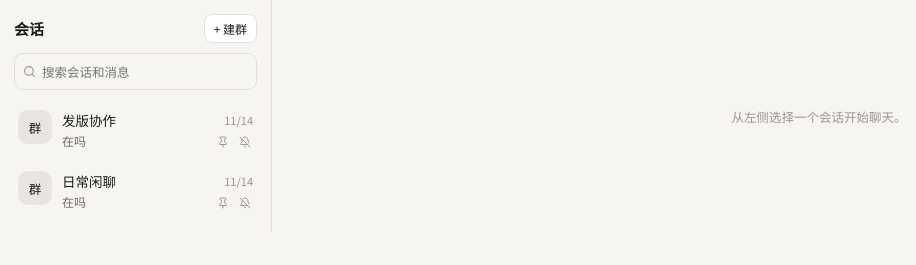
会话搜索框 › 搜索失败时显示错误文案，不把上一次的结果留在屏幕上
In the field labelled "搜索会话和消息": (136,72) [14,53,257,90], type "联调"
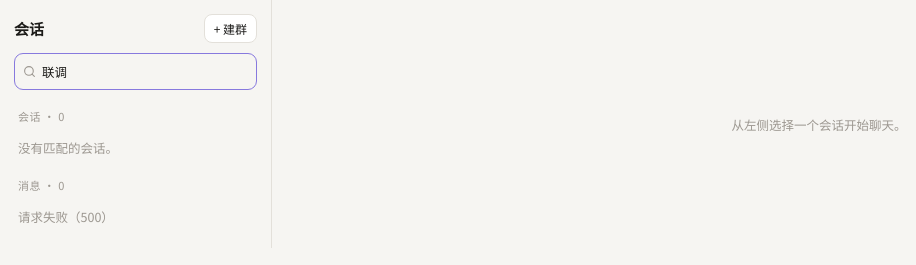
Expected: the text "请求失败（500）" is shown, [18,207,114,226]
